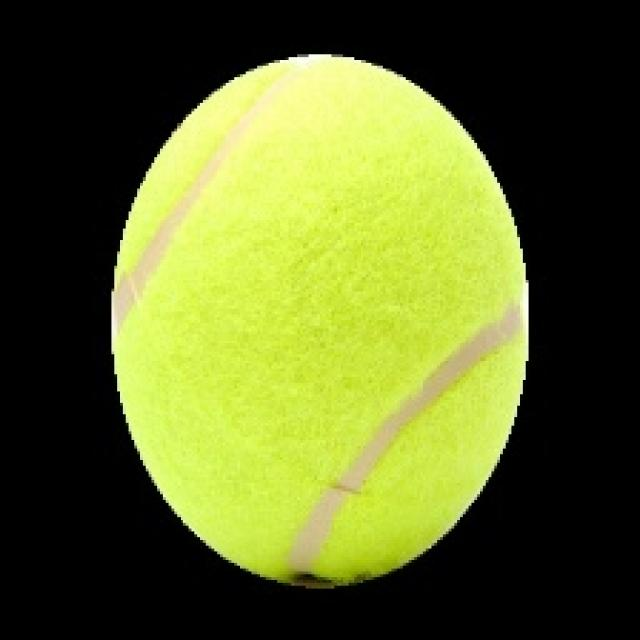Tennis Ball: (111, 57, 529, 591)
